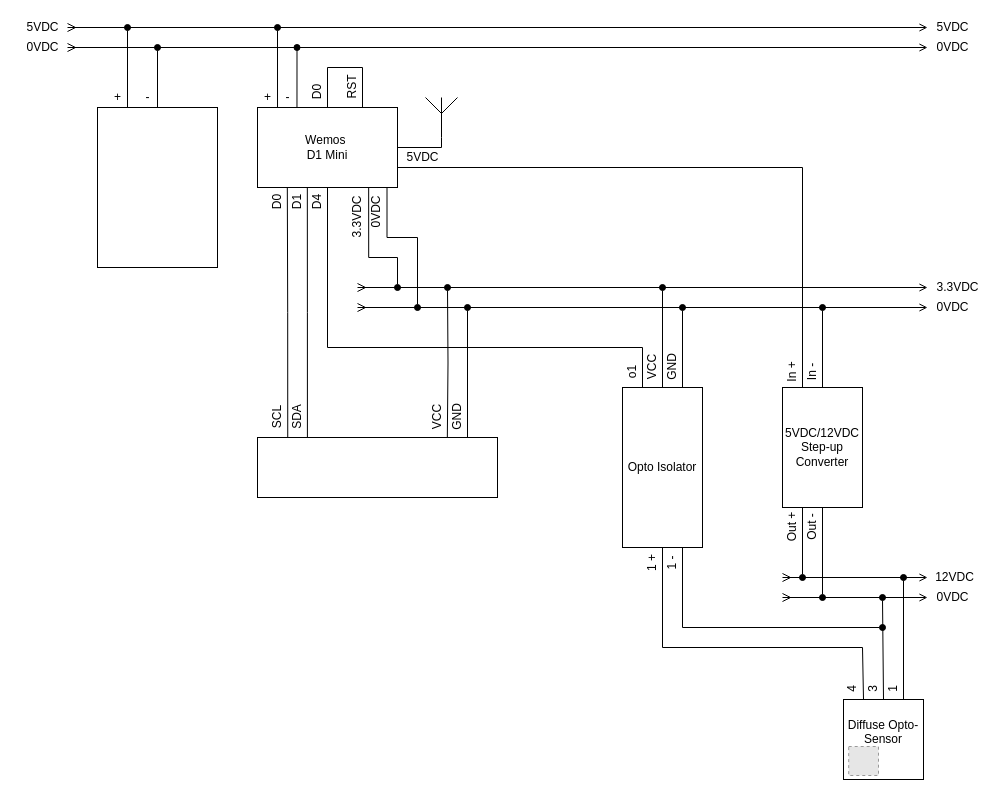
The diagram is 1004 pixels wide and 797 high, and some of its shapes have lost their labels. Grey dashed boxes stand in for pictures. Here are the shapes that lost their labels. From the top down, the centre of each, then its label:
At pixel 157 187: "5V Li-Ion Battery".
At pixel 377 467: "IMU".
